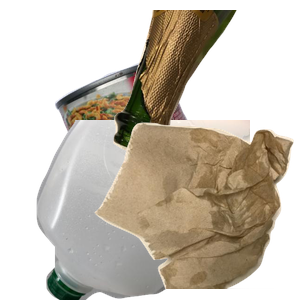glass: (111, 10, 300, 158)
metal: (52, 57, 260, 237)
plastic: (34, 120, 274, 300)
trash: (92, 120, 300, 300)
